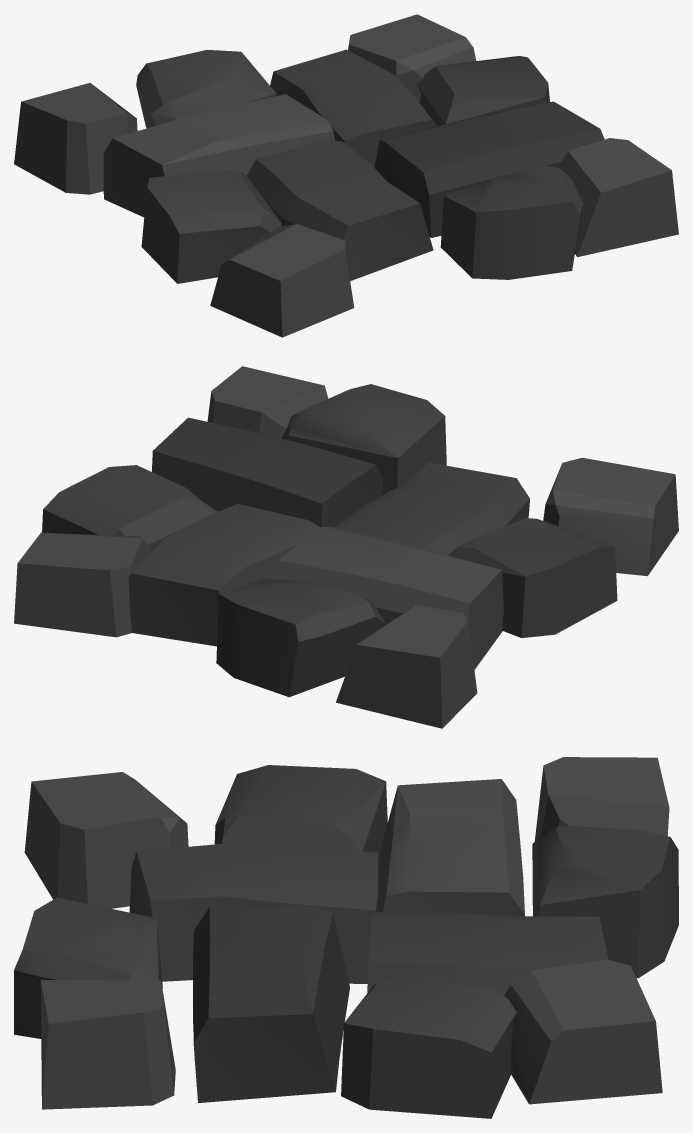
Rendered from ea01_env_road_cobble_02a_pre_8_lev1.glb.
3 renders of one model, top to bottom at view 1: azimuth 30°, elevation 25°; view 2: azimuth 150°, elevation 25°; view 3: azimuth 270°, elevation 25°, orthographic. The views are drawn at different scales.
Parts seen in each view (by area): view 1: ea01_env_road_cobble_02a_pre_8_lev1; view 2: ea01_env_road_cobble_02a_pre_8_lev1; view 3: ea01_env_road_cobble_02a_pre_8_lev1.
Part boxes in pixels (left/top/right/bottom): ea01_env_road_cobble_02a_pre_8_lev1: left=14, top=14, right=678, bottom=337; ea01_env_road_cobble_02a_pre_8_lev1: left=14, top=366, right=678, bottom=728; ea01_env_road_cobble_02a_pre_8_lev1: left=14, top=757, right=678, bottom=1118.
Size of the model in its own units: 2.44 by 0.3708 by 2.44.
Materials: 1 (1 with a texture image).
